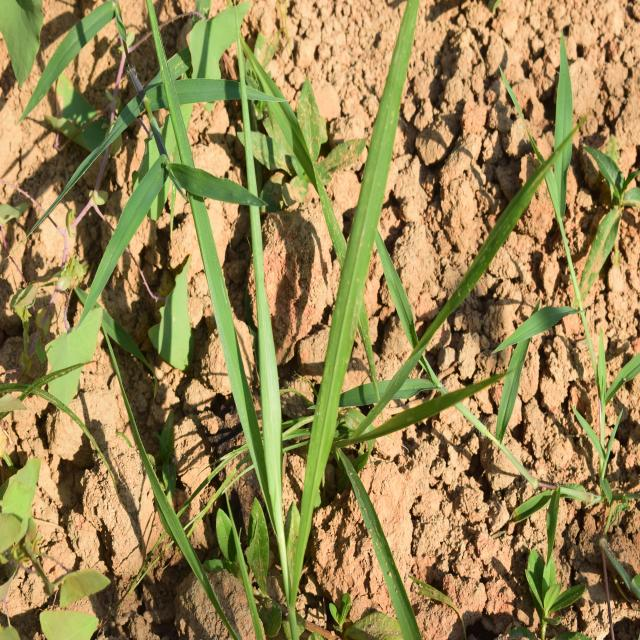green_foxtail: (201, 58, 468, 572)
